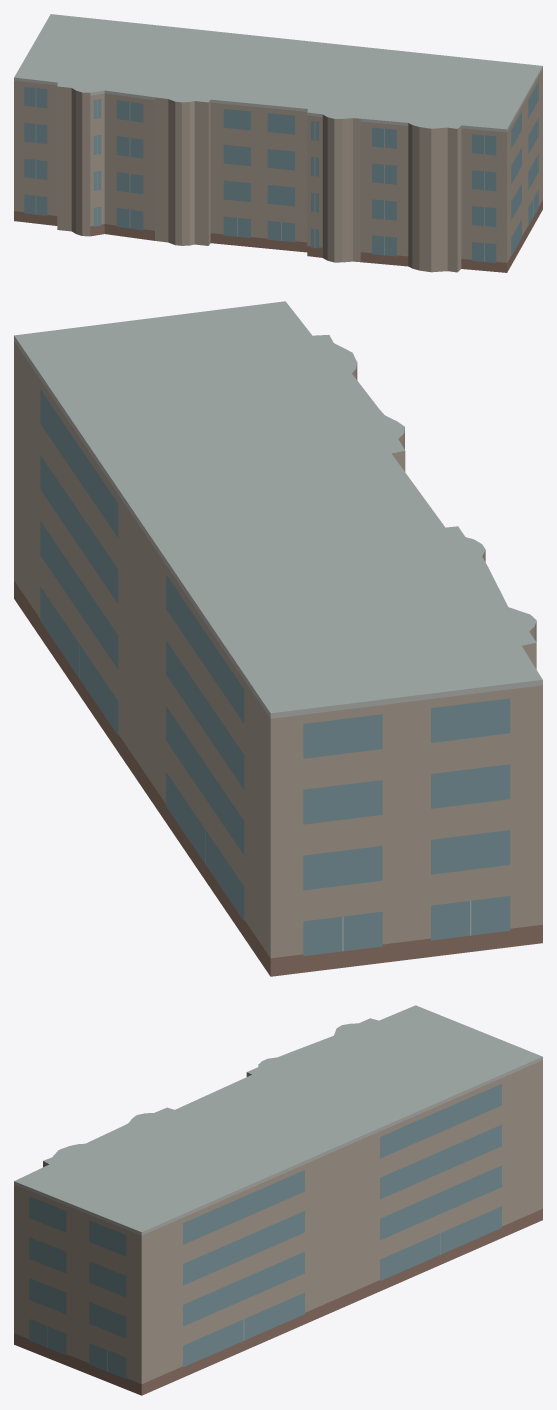
The model's file is survey-upis-32582394.glb.
The picture shows the model from 3 angles, top to bottom: view 1: azimuth 30°, elevation 25°; view 2: azimuth 150°, elevation 25°; view 3: azimuth 270°, elevation 25°; orthographic projection. The views are drawn at different scales.
Visible parts, largest first — view 1: survey-upis-32582394.tmp; view 2: survey-upis-32582394.tmp; view 3: survey-upis-32582394.tmp.
Boxes of the visible parts, box(x1,y1,x2,y2) form: survey-upis-32582394.tmp: box(14, 14, 542, 272); survey-upis-32582394.tmp: box(14, 301, 542, 976); survey-upis-32582394.tmp: box(14, 1005, 542, 1395).
Size of the model in its own units: 34.85 by 11.7 by 34.32.
